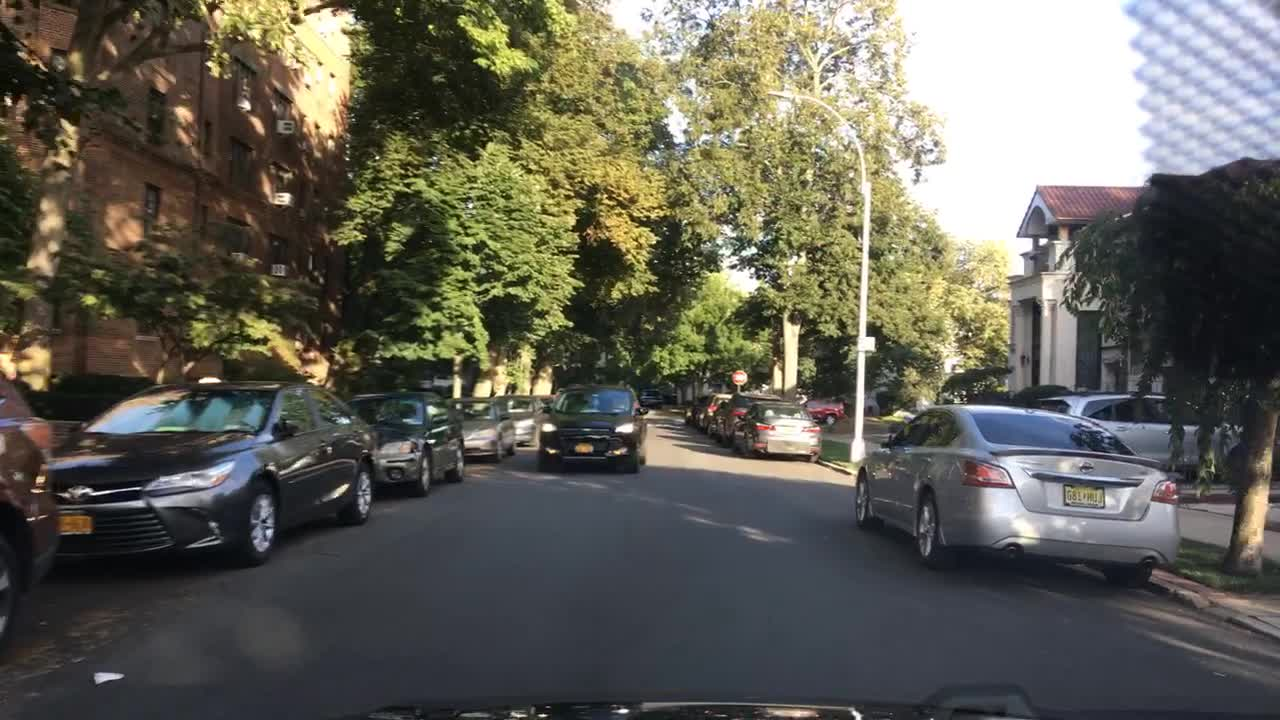car: (49, 374, 374, 569), (852, 405, 1178, 590), (0, 374, 62, 658), (1034, 393, 1242, 469), (347, 390, 462, 496), (531, 381, 646, 479), (730, 398, 822, 464), (449, 396, 516, 464), (712, 388, 779, 447), (501, 395, 538, 444), (698, 395, 732, 437), (803, 393, 843, 427), (692, 388, 715, 428), (638, 388, 666, 415), (676, 393, 703, 417), (536, 393, 555, 408)
traffic sign: (852, 336, 874, 353), (730, 368, 746, 385)
